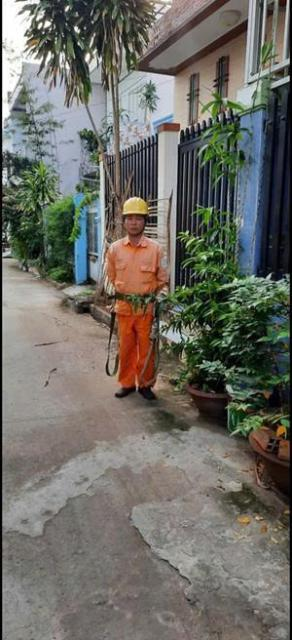harness: (104, 289, 164, 308)
helmet: (120, 193, 158, 224)
shoes: (109, 382, 139, 400), (136, 382, 161, 403)
